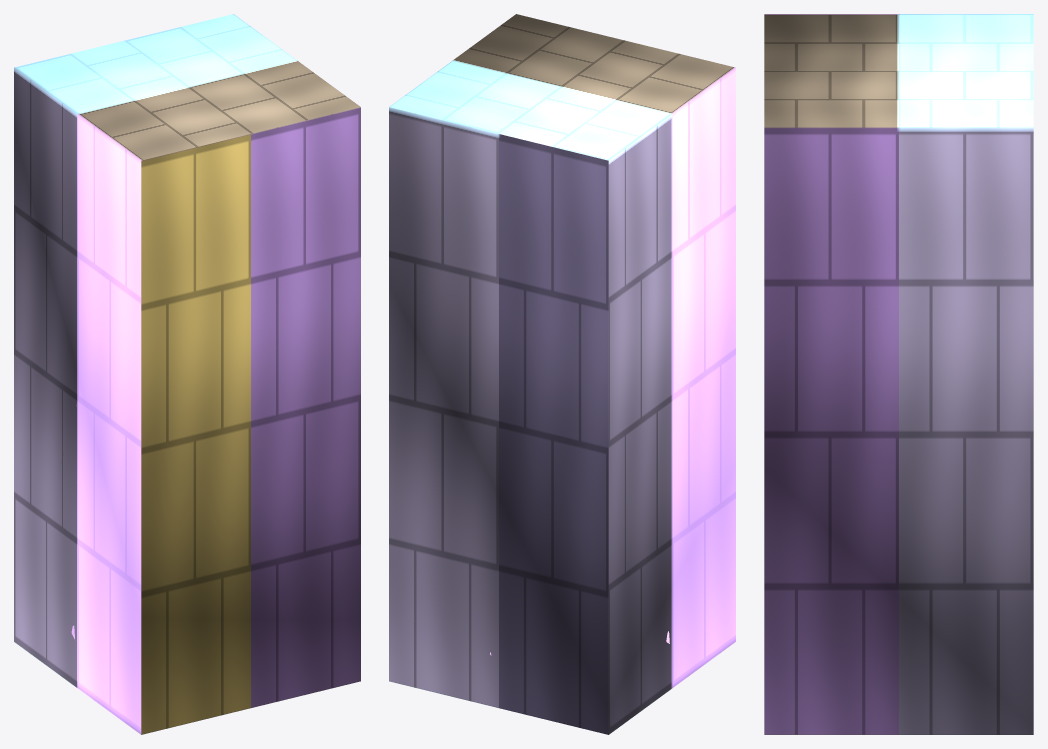
File: crystal_a.glb
3 views of the same model, side by side, from view 1: azimuth 30°, elevation 25°; view 2: azimuth 150°, elevation 25°; view 3: azimuth 270°, elevation 25° (orthographic). The views are drawn at different scales.
Parts seen in each view (by area): view 1: col; view 2: col; view 3: col.
Part boxes in pixels (left/top/right/bottom): col: left=14, top=14, right=360, bottom=734; col: left=389, top=14, right=735, bottom=734; col: left=764, top=14, right=1033, bottom=734.
Bounding box in the file's own units: 0.713 × 1.78 × 0.7143.
1 material, 1 textured.
